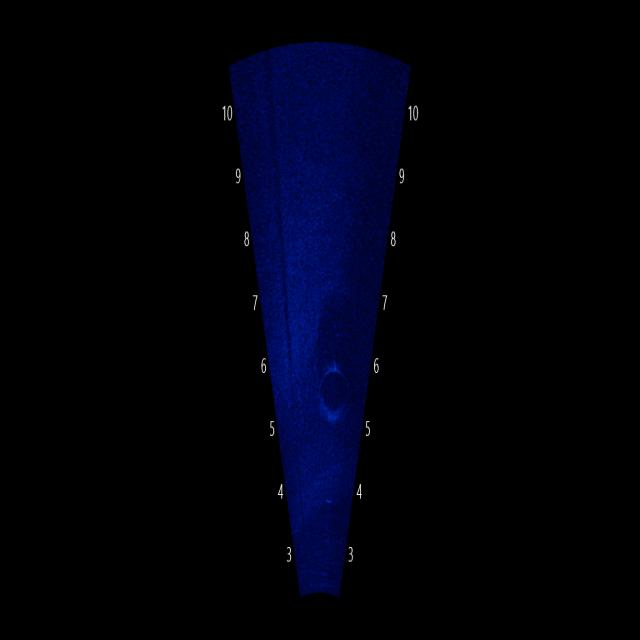circle: (305, 339, 355, 441)
